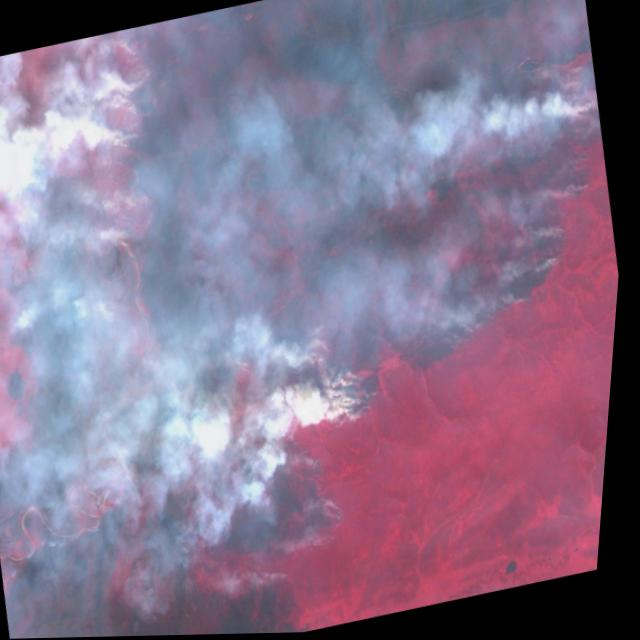fire: (382, 48, 637, 373), (206, 310, 421, 564), (67, 25, 188, 271), (0, 113, 58, 180), (89, 286, 138, 343)
